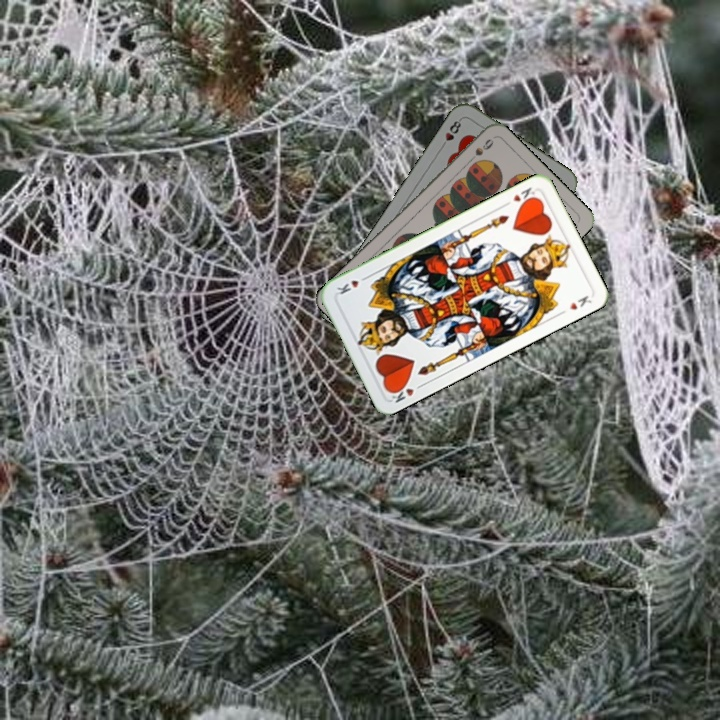H8: (437, 115, 464, 151)
HK: (385, 379, 426, 406), (500, 183, 538, 209)
S9: (463, 134, 496, 167)
